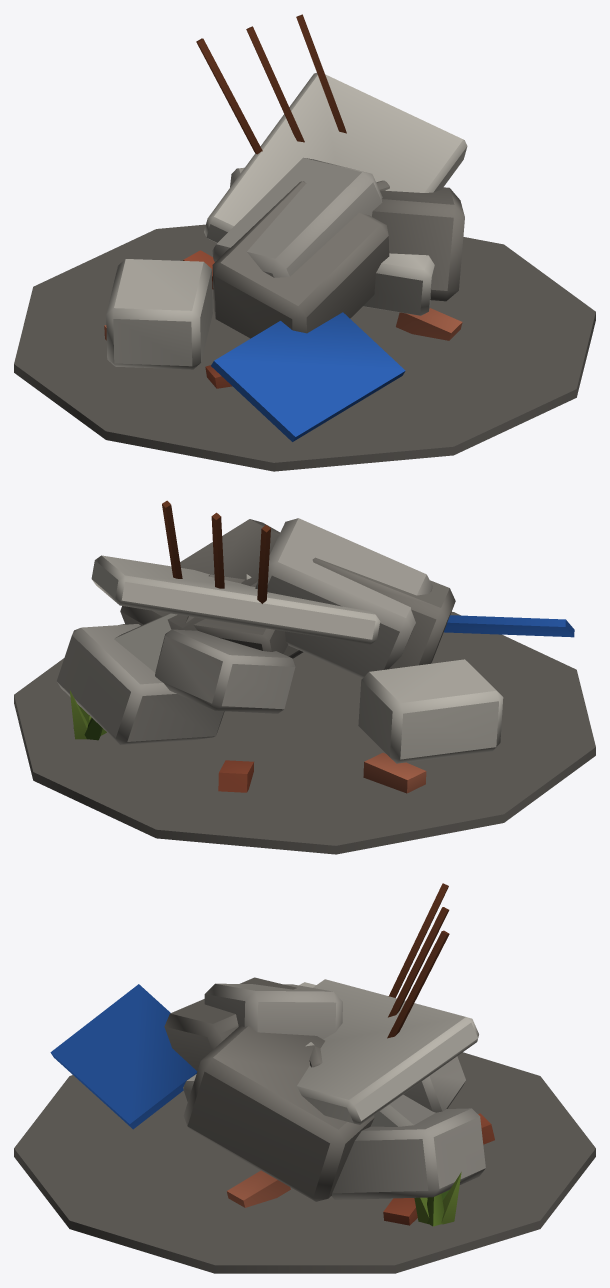
Rendered from p_st_rubble_1.glb.
3 renders of one model, top to bottom at view 1: azimuth 30°, elevation 25°; view 2: azimuth 150°, elevation 25°; view 3: azimuth 270°, elevation 25°, orthographic. The views are drawn at different scales.
Parts seen in each view (by area): view 1: body; view 2: body; view 3: body.
Part boxes in pixels (<box>): body: <box>14,14,595,471</box>; body: <box>14,500,595,854</box>; body: <box>14,883,595,1273</box>.
Size of the model in its own units: 2.95 by 1.52 by 3.1.
